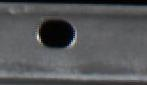holes: (36, 15, 78, 49)
